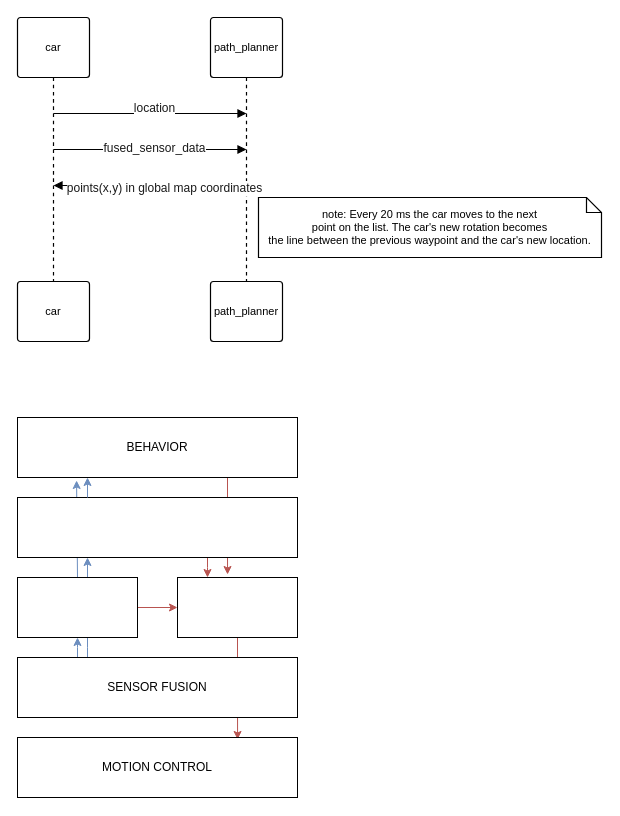
Image size: 620x816. Some labels were removed from this diagram. The shapes that lost their labels are listed below. From the top down, each one's centre as x and y in pixels, then its label:
At (x=157, y=527): "PREDICTION".
At (x=77, y=607): "LOCALIZATION".
At (x=237, y=607): "TRAJECTORY".
